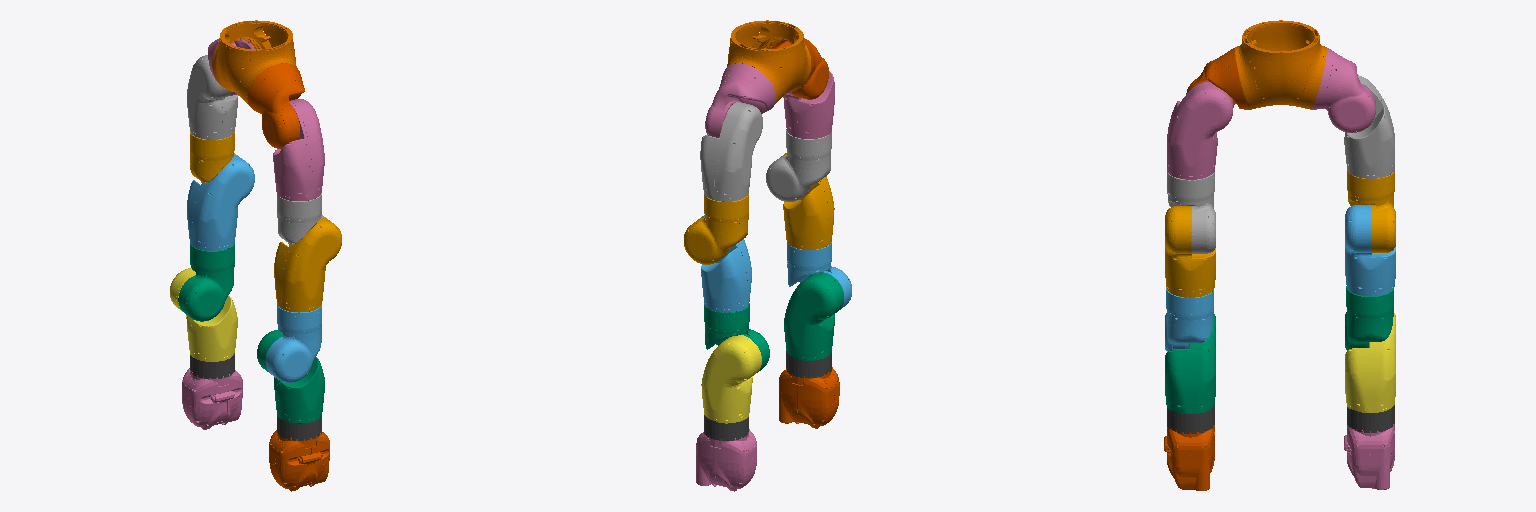
--- Facts derived from the render (not from the file) ---
3 views of the same robot in one strip: view 1: azimuth 30°, elevation 25°; view 2: azimuth 150°, elevation 25°; view 3: azimuth 270°, elevation 25° (orthographic).
Robot: r2 — 34 links, 33 joints (14 revolute, 19 fixed); root link r2/world_ref; default pose: every joint at zero.
Links seen in each view (by area): view 1: r2/left_knee, r2/right_knee, r2/pelvis, r2/right_hip_pitch, r2/right_hip_roll, r2/right_lower_leg, r2/left_lower_leg, r2/left_hip_pitch, r2/left_leg_foot, r2/right_leg_foot, r2/right_ankle_pitch, r2/left_ankle_pitch (+4 smaller); view 2: r2/left_hip_pitch, r2/pelvis, r2/right_ankle_pitch, r2/left_ankle_pitch, r2/right_upper_leg, r2/left_upper_leg, r2/left_leg_foot, r2/right_leg_foot, r2/right_knee, r2/left_knee, r2/left_hip_roll, r2/right_hip_pitch (+5 smaller); view 3: r2/pelvis, r2/right_hip_pitch, r2/right_ankle_pitch, r2/left_ankle_pitch, r2/right_knee, r2/left_knee, r2/left_hip_roll, r2/left_hip_pitch, r2/right_leg_foot, r2/left_leg_foot, r2/right_upper_leg, r2/left_upper_leg (+5 smaller).
Link boxes in pixels (left/top/right/bottom): r2/left_knee: left=187, top=155, right=254, bottom=250; r2/right_knee: left=274, top=216, right=341, bottom=312; r2/pelvis: left=212, top=20, right=296, bottom=104; r2/right_hip_pitch: left=273, top=99, right=324, bottom=200; r2/right_hip_roll: left=247, top=63, right=304, bottom=148; r2/right_lower_leg: left=266, top=305, right=321, bottom=382; r2/left_lower_leg: left=178, top=243, right=234, bottom=321; r2/left_hip_pitch: left=187, top=55, right=238, bottom=139; r2/left_leg_foot: left=182, top=368, right=242, bottom=429; r2/right_leg_foot: left=269, top=430, right=329, bottom=491; r2/right_ankle_pitch: left=257, top=330, right=324, bottom=423; r2/left_ankle_pitch: left=170, top=268, right=237, bottom=361; r2/left_hip_pitch: left=700, top=102, right=762, bottom=201; r2/pelvis: left=727, top=20, right=810, bottom=103; r2/right_ankle_pitch: left=784, top=272, right=843, bottom=360; r2/left_ankle_pitch: left=701, top=335, right=761, bottom=423; r2/right_upper_leg: left=766, top=129, right=831, bottom=201; r2/left_upper_leg: left=684, top=194, right=748, bottom=264; r2/left_leg_foot: left=696, top=429, right=756, bottom=491; r2/right_leg_foot: left=779, top=367, right=839, bottom=428; r2/right_knee: left=781, top=153, right=834, bottom=249; r2/left_knee: left=701, top=215, right=751, bottom=312; r2/left_hip_roll: left=705, top=63, right=776, bottom=137; r2/right_hip_pitch: left=783, top=71, right=834, bottom=138; r2/pelvis: left=1235, top=20, right=1326, bottom=109; r2/right_hip_pitch: left=1167, top=82, right=1232, bottom=179; r2/right_ankle_pitch: left=1165, top=314, right=1215, bottom=413; r2/left_ankle_pitch: left=1345, top=313, right=1395, bottom=412; r2/right_knee: left=1165, top=206, right=1215, bottom=297; r2/left_knee: left=1345, top=205, right=1395, bottom=296; r2/left_hip_roll: left=1311, top=48, right=1375, bottom=132; r2/left_hip_pitch: left=1344, top=75, right=1394, bottom=178; r2/right_leg_foot: left=1164, top=425, right=1214, bottom=490; r2/left_leg_foot: left=1344, top=424, right=1394, bottom=489; r2/right_upper_leg: left=1167, top=172, right=1215, bottom=253; r2/left_upper_leg: left=1347, top=171, right=1395, bottom=252.
Size in the robot's own frame: 0.2417 by 0.6398 by 1.35 metres.
Meshes: 5 distinct files referenced, 15 mesh visuals loaded (5 Collada DAE).

The robot description file, URDF, robot "r2":
<?xml version="1.0" ?>
<!-- =================================================================================== -->
<!-- |    This document was autogenerated by xacro from ./robots/r2c_sim_legs_control.urdf.xacro | -->
<!-- |    EDITING THIS FILE BY HAND IS NOT RECOMMENDED                                 | -->
<!-- =================================================================================== -->
<robot name="r2" xmlns:xacro="http://www.ros.org/wiki/xacro">
  <link name="r2/world_ref"/>
  <joint name="r2/fixed/world_ref/robot_world" type="fixed">
    <parent link="r2/world_ref"/>
    <child link="r2/robot_world"/>
    <origin rpy="0 0 0" xyz="0 0 0"/>
  </joint>
  <link name="r2/robot_world">
    <inertial>
      <mass value="0.01"/>
      <inertia ixx="0.0001" ixy="0.0" ixz="0.0" iyy="0.0001" iyz="0.0" izz="0.0001"/>
    </inertial>
  </link>
  <joint name="r2/fixed/robot_world/robot_base" type="fixed">
    <parent link="r2/robot_world"/>
    <child link="r2/robot_base"/>
    <origin rpy="0.0 3.14159 3.14159" xyz="0.0 0.0 0.0"/>
  </joint>
  <link name="r2/robot_base">
    <inertial>
      <mass value="0.01"/>
      <inertia ixx="0.0001" ixy="0.0" ixz="0.0" iyy="0.0001" iyz="0.0" izz="0.0001"/>
    </inertial>
  </link>
  <material name="white">
    <color rgba="1.0 1.0 1.0 1.0"/>
  </material>
  <material name="dirty_white">
    <color rgba="0.322 0.322 0.322 1.0"/>
  </material>
  <material name="gold">
    <color rgba=".878 .49 0.008 1"/>
  </material>
  <material name="steel">
    <color rgba=".7 .7 .7 1"/>
  </material>
  <material name="blue">
    <color rgba="0 0 0.8 1"/>
  </material>
  <link name="r2/pelvis">
    <inertial>
      <mass value="12.2831"/>
      <inertia ixx="0.10679" ixy="0.00009239" ixz="-0.00002105" iyy="0.05595" iyz="0.0" izz="0.1022"/>
      <origin rpy="0 0 0" xyz="0.00001909 0.0 -0.008524"/>
    </inertial>
    <visual>
      <geometry>
        <mesh filename="package://r2_description/meshes/r2c_legs/r2cl_ext_pelvis.dae"/>
      </geometry>
      <material name="gold"/>
      <origin rpy="0 0 0" xyz="0 0 0"/>
    </visual>
    <collision>
      <geometry>
        <mesh filename="package://r2_description/meshes/r2c_legs/r2cl_ext_pelvis.dae"/>
      </geometry>
      <origin rpy="0 0 0" xyz="0 0 0"/>
    </collision>
  </link>
  <joint name="r2/fixed/robot_base/pelvis" type="fixed">
    <parent link="r2/robot_base"/>
    <child link="r2/pelvis"/>
    <origin rpy="0 3.14159 0" xyz="0 0 0.098"/>
  </joint>
  <joint name="r2/fixed/pelvis/left_leg_base" type="fixed">
    <parent link="r2/pelvis"/>
    <child link="r2/left_leg_base"/>
    <origin rpy="0 0.000000 1.570796" xyz="0.0 0 0.0"/>
  </joint>
  <link name="r2/left_leg_base">
    <inertial>
      <mass value="0.01"/>
      <inertia ixx="0.0001" ixy="0.0" ixz="0.0" iyy="0.0001" iyz="0.0" izz="0.0001"/>
    </inertial>
  </link>
  <joint name="r2/fixed/left_leg_base/left_leg_j0_base" type="fixed">
    <parent link="r2/left_leg_base"/>
    <child link="r2/left_leg_j0_base"/>
    <origin rpy="0.0 1.8325957 3.14159" xyz="-0.1104900 0.0 -0.0297180"/>
  </joint>
  <link name="r2/left_leg_j0_base">
    <inertial>
      <mass value="0.01"/>
      <inertia ixx="0.0001" ixy="0.0" ixz="0.0" iyy="0.0001" iyz="0.0" izz="0.0001"/>
    </inertial>
  </link>
  <joint name="r2/left_leg/joint0" type="revolute">
    <parent link="r2/left_leg_j0_base"/>
    <child link="r2/left_hip_roll"/>
    <origin rpy="0.0 0 0" xyz="0 0 0"/>
    <axis xyz="0 0 1"/>
    <dynamics damping="10.0" friction="0.0"/>
    <limit effort="330.0" lower="-3.14159" upper="3.14159" velocity="1.0"/>
    <traits spring_k="2.5"/>
  </joint>
  <link name="r2/left_hip_roll">
    <inertial>
      <mass value="2.5410"/>
      <inertia ixx="0.006434" ixy="0.0007087" ixz="-0.001543" iyy="0.009325" iyz="0.0008694" izz="0.006904"/>
      <origin rpy="0.0 0.0 0.0" xyz="0.03372 -0.02428 0.07903"/>
    </inertial>
    <visual>
      <geometry>
        <mesh filename="package://r2_description/meshes/r2c_legs/r2cl_ext_bone3.dae"/>
      </geometry>
      <origin rpy="0 0 0" xyz="0.0 0.0 0.0"/>
    </visual>
    <collision>
      <geometry>
        <mesh filename="package://r2_description/meshes/r2c_legs/r2cl_ext_bone3.dae"/>
      </geometry>
      <origin rpy="0 0 0" xyz="0.0 0.0 0.0"/>
    </collision>
  </link>
  <joint name="r2/left_leg/joint1" type="revolute">
    <parent link="r2/left_hip_roll"/>
    <child link="r2/left_hip_pitch"/>
    <origin rpy="-1.570796  -0.2617994 0.0000000" xyz="0.050629765 +0.0022860 0.103498576"/>
    <axis xyz="0 0 1"/>
    <dynamics damping="5.0" friction="0.0"/>
    <limit effort="330.0" lower="-1.42244" upper="1.20427" velocity="1.0"/>
    <traits spring_k="2.5"/>
  </joint>
  <link name="r2/left_hip_pitch">
    <inertial>
      <mass value="4.6734"/>
      <inertia ixx="0.01002" ixy="0.007194" ixz="0.002041" iyy="0.03307" iyz="-0.0007281" izz="0.03728"/>
      <origin rpy="0 0 0" xyz="0.09450 -0.03354 0.008185"/>
    </inertial>
    <visual>
      <geometry>
        <mesh filename="package://r2_description/meshes/r2c_legs/r2cl_ext_bone1.dae"/>
      </geometry>
      <origin rpy="0 0 0" xyz="0 0 0"/>
    </visual>
    <collision>
      <geometry>
        <mesh filename="package://r2_description/meshes/r2c_legs/r2cl_ext_bone1.dae"/>
      </geometry>
      <origin rpy="0 0 0" xyz="0 0 0"/>
    </collision>
  </link>
  <joint name="r2/left_leg/joint2" type="revolute">
    <parent link="r2/left_hip_pitch"/>
    <child link="r2/left_upper_leg"/>
    <origin rpy=" 1.570796 0.0 1.570796" xyz="0.200 -0.050 0.004"/>
    <axis xyz="0 0 1"/>
    <dynamics damping="5.0" friction="0.0"/>
    <limit effort="330.0" lower="-3.14159" upper="3.14159" velocity="1.0"/>
    <traits spring_k="2.5"/>
  </joint>
  <link name="r2/left_upper_leg">
    <inertial>
      <mass value="3.7745"/>
      <inertia ixx="0.02163" ixy="-0.001453" ixz="0.003137" iyy="0.01832" iyz="0.004738" izz="0.009798"/>
      <origin rpy="0 0 0" xyz="-0.01485 -0.02188 0.09676"/>
    </inertial>
    <visual>
      <geometry>
        <mesh filename="package://r2_description/meshes/r2c_legs/r2cl_ext_bone2.dae"/>
      </geometry>
      <origin rpy="0 0 0" xyz="0 0 0"/>
    </visual>
    <collision>
      <geometry>
        <mesh filename="package://r2_description/meshes/r2c_legs/r2cl_ext_bone2.dae"/>
      </geometry>
      <origin rpy="0 0 0" xyz="0 0 0"/>
    </collision>
  </link>
  <joint name="r2/left_leg/joint3" type="revolute">
    <parent link="r2/left_upper_leg"/>
    <child link="r2/left_knee"/>
    <origin rpy="0.0 -1.570796 3.14159" xyz="-0.002 -0.050 0.157"/>
    <axis xyz="0 0 1"/>
    <dynamics damping="5.0" friction="0.0"/>
    <limit effort="330.0" lower="-0.10472" upper="2.68781" velocity="1.0"/>
    <traits spring_k="2.5"/>
  </joint>
  <link name="r2/left_knee">
    <inertial>
      <mass value="4.6734"/>
      <inertia ixx="0.01002" ixy="0.007194" ixz="0.002041" iyy="0.03307" iyz="-0.0007281" izz="0.03728"/>
      <origin rpy="0 0 0" xyz="0.09450 -0.03354 0.008185"/>
    </inertial>
    <visual>
      <geometry>
        <mesh filename="package://r2_description/meshes/r2c_legs/r2cl_ext_bone1.dae"/>
      </geometry>
      <origin rpy="0 0 0" xyz="0 0 0"/>
    </visual>
    <collision>
      <geometry>
        <mesh filename="package://r2_description/meshes/r2c_legs/r2cl_ext_bone1.dae"/>
      </geometry>
      <material name="gold"/>
      <origin rpy="0 0 0" xyz="0 0 0"/>
    </collision>
  </link>
  <joint name="r2/left_leg/joint4" type="revolute">
    <parent link="r2/left_knee"/>
    <child link="r2/left_lower_leg"/>
    <origin rpy="0 1.570796 0" xyz="0.200 -0.050 0.004"/>
    <axis xyz="0 0 1"/>
    <dynamics damping="5.0" friction="0.0"/>
    <limit effort="330.0" lower="-3.14159" upper="3.14159" velocity="1.0"/>
    <traits spring_k="2.5"/>
  </joint>
  <link name="r2/left_lower_leg">
    <inertial>
      <mass value="3.7745"/>
      <inertia ixx="0.02163" ixy="-0.001453" ixz="0.003137" iyy="0.01832" iyz="0.004738" izz="0.009798"/>
      <origin rpy="0 0 0" xyz="-0.01485 -0.02188 0.09676"/>
    </inertial>
    <visual>
      <geometry>
        <mesh filename="package://r2_description/meshes/r2c_legs/r2cl_ext_bone2.dae"/>
      </geometry>
      <origin rpy="0 0 0" xyz="0 0 0"/>
    </visual>
    <collision>
      <geometry>
        <mesh filename="package://r2_description/meshes/r2c_legs/r2cl_ext_bone2.dae"/>
      </geometry>
      <origin rpy="0 0 0" xyz="0 0 0"/>
    </collision>
  </link>
  <joint name="r2/left_leg/joint5" type="revolute">
    <parent link="r2/left_lower_leg"/>
    <child link="r2/left_ankle_pitch"/>
    <origin rpy="0.0 -1.570796 3.14159" xyz="-0.002 -0.050 0.157"/>
    <axis xyz="0 0 1"/>
    <dynamics damping="5.0" friction="0.0"/>
    <limit effort="330.0" lower="-0.10472" upper="2.68781" velocity="1.0"/>
    <traits spring_k="2.5"/>
  </joint>
  <link name="r2/left_ankle_pitch">
    <inertial>
      <mass value="4.6734"/>
      <inertia ixx="0.01002" ixy="0.007194" ixz="0.002041" iyy="0.03307" iyz="-0.0007281" izz="0.03728"/>
      <origin rpy="0 0 0" xyz="0.09450 -0.03354 0.008185"/>
    </inertial>
    <visual>
      <geometry>
        <mesh filename="package://r2_description/meshes/r2c_legs/r2cl_ext_bone1.dae"/>
      </geometry>
      <origin rpy="0 0 0" xyz="0 0 0"/>
    </visual>
    <collision>
      <geometry>
        <mesh filename="package://r2_description/meshes/r2c_legs/r2cl_ext_bone1.dae"/>
      </geometry>
      <origin rpy="0 0 0" xyz="0 0 0"/>
    </collision>
  </link>
  <joint name="r2/left_leg/joint6" type="revolute">
    <parent link="r2/left_ankle_pitch"/>
    <child link="r2/left_ankle_roll"/>
    <origin rpy="3.14159 -1.570796 0" xyz="0.199643 -0.0508 0.00325"/>
    <axis xyz="0 0 1"/>
    <dynamics damping="5.0" friction="0.0"/>
    <limit effort="330.0" lower="-3.14159" upper="3.14159" velocity="1.0"/>
    <traits spring_k="2.5"/>
  </joint>
  <link name="r2/left_ankle_roll">
    <inertial>
      <mass value="1.4461"/>
      <inertia ixx="0.001780" ixy="0.00001801" ixz="0.0000002218" iyy="0.001767" iyz="0.0000006717" izz="0.002949"/>
      <origin rpy="0 0 0" xyz="-0.00004402 0.0001052 0.02940"/>
    </inertial>
    <visual>
      <geometry>
        <cylinder length=".06" radius=".066"/>
      </geometry>
      <material name="dirty_white"/>
      <origin rpy="0 0 0" xyz="0 0 0.025"/>
    </visual>
    <collision>
      <geometry>
        <cylinder length=".06" radius=".066"/>
      </geometry>
      <origin rpy="0 0 0" xyz="0 0 0.025"/>
    </collision>
  </link>
  <joint name="r2/fixed/left_ankle_roll/left_leg_ati" type="fixed">
    <parent link="r2/left_ankle_roll"/>
    <child link="r2/left_leg/ati"/>
    <origin rpy="3.1416 0.0 -1.5708" xyz="0.0 0.0 0.070182"/>
  </joint>
  <link name="r2/left_leg/ati">
    <inertial>
      <mass value="0.01"/>
      <inertia ixx="0.0001" ixy="0.0" ixz="0.0" iyy="0.0001" iyz="0.0" izz="0.0001"/>
    </inertial>
  </link>
  <joint name="r2/fixed/left_leg_ati/left_leg_foot" type="fixed">
    <parent link="r2/left_leg/ati"/>
    <child link="r2/left_leg_foot"/>
    <origin rpy="3.1416 0.0 -1.5708" xyz="0.0 0.0 0.0206502"/>
  </joint>
  <link name="r2/left_leg_foot">
    <inertial>
      <mass value="4.63812"/>
      <inertia ixx="0.01951" ixy="-0.00030332" ixz="-0.00011945" iyy="0.017896" iyz="-0.000689634" izz="0.010101"/>
      <origin rpy="0 0 0" xyz="-0.0015 -0.00021835 0.08493"/>
    </inertial>
    <visual>
      <geometry>
        <mesh filename="package://r2_description/meshes/r2c_legs/foot_body.dae"/>
      </geometry>
      <origin rpy="0 0 -1.5708" xyz="0 0 0"/>
    </visual>
    <collision>
      <geometry>
        <mesh filename="package://r2_description/meshes/r2c_legs/foot_body.dae"/>
      </geometry>
      <origin rpy="0 0 -1.5708" xyz="0 0 0"/>
    </collision>
  </link>
  <joint name="r2/fixed/left_leg_foot/left_hr_tip" type="fixed">
    <parent link="r2/left_leg_foot"/>
    <child link="r2/left_leg/gripper/tip"/>
    <origin rpy="0.0 0 0" xyz="0 0 0.19451"/>
  </joint>
  <link name="r2/left_leg/gripper/tip">
    <inertial>
      <mass value="0.01"/>
      <inertia ixx="0.0001" ixy="0.0" ixz="0.0" iyy="0.0001" iyz="0.0" izz="0.0001"/>
    </inertial>
  </link>
  <joint name="r2/fixed/left_leg_foot/left_st_tip" type="fixed">
    <parent link="r2/left_leg_foot"/>
    <child link="r2/left_leg/gripper/st_tip"/>
    <origin rpy="0.0 0 0" xyz="0 0 0.21991"/>
  </joint>
  <link name="r2/left_leg/gripper/st_tip">
    <inertial>
      <mass value="0.01"/>
      <inertia ixx="0.0001" ixy="0.0" ixz="0.0" iyy="0.0001" iyz="0.0" izz="0.0001"/>
    </inertial>
  </link>
  <joint name="r2/fixed/left_leg_foot/left_leg_nano_physical" type="fixed">
    <parent link="r2/left_leg_foot"/>
    <child link="r2/left_leg/nano_physical"/>
    <origin rpy="0 0 0" xyz="-0.025 .07 0.13"/>
  </joint>
  <link name="r2/left_leg/nano_physical">
    <inertial>
      <mass value="0.01"/>
      <inertia ixx="0.0001" ixy="0.0" ixz="0.0" iyy="0.0001" iyz="0.0" izz="0.0001"/>
    </inertial>
  </link>
  <joint name="r2/fixed/left_leg_foot/left_leg_flea_physical" type="fixed">
    <parent link="r2/left_leg_foot"/>
    <child link="r2/left_leg/flea_physical"/>
    <origin rpy="0.0 0 0" xyz="0.025 .07 0.13"/>
  </joint>
  <link name="r2/left_leg/flea_physical">
    <inertial>
      <mass value="0.01"/>
      <inertia ixx="0.0001" ixy="0.0" ixz="0.0" iyy="0.0001" iyz="0.0" izz="0.0001"/>
    </inertial>
  </link>
  <joint name="r2/fixed/pelvis/right_leg_base" type="fixed">
    <parent link="r2/pelvis"/>
    <child link="r2/right_leg_base"/>
    <origin rpy="0 0.000000 1.570796" xyz="0.0 0 0.0"/>
  </joint>
  <link name="r2/right_leg_base">
    <inertial>
      <mass value="0.01"/>
      <inertia ixx="0.0001" ixy="0.0" ixz="0.0" iyy="0.0001" iyz="0.0" izz="0.0001"/>
    </inertial>
  </link>
  <joint name="r2/fixed/right_leg_base/right_leg_j0_base" type="fixed">
    <parent link="r2/right_leg_base"/>
    <child link="r2/right_leg_j0_base"/>
    <origin rpy="0.0 1.8325957 0.0" xyz="0.1104900 0.0 -0.0297180"/>
  </joint>
  <link name="r2/right_leg_j0_base">
    <inertial>
      <mass value="0.01"/>
      <inertia ixx="0.0001" ixy="0.0" ixz="0.0" iyy="0.0001" iyz="0.0" izz="0.0001"/>
    </inertial>
  </link>
  <joint name="r2/right_leg/joint0" type="revolute">
    <parent link="r2/right_leg_j0_base"/>
    <child link="r2/right_hip_roll"/>
    <origin rpy="0.0 0.0 0.0" xyz="0 0 0"/>
    <axis xyz="0 0 1"/>
    <dynamics damping="10.0" friction="0.0"/>
    <limit effort="330.0" lower="-3.14159" upper="3.14159" velocity="1.0"/>
    <traits spring_k="2.5"/>
  </joint>
  <link name="r2/right_hip_roll">
    <inertial>
      <mass value="2.5410"/>
      <inertia ixx="0.006434" ixy="0.0007087" ixz="-0.001543" iyy="0.009325" iyz="0.0008694" izz="0.006904"/>
      <origin rpy="0.0 0.0 0.0" xyz="0.03372 -0.02428 0.07903"/>
    </inertial>
    <visual>
      <geometry>
        <mesh filename="package://r2_description/meshes/r2c_legs/r2cl_ext_bone3.dae"/>
      </geometry>
      <origin rpy="0 0 0" xyz="0.0 0.0 0.0"/>
    </visual>
    <collision>
      <geometry>
        <mesh filename="package://r2_description/meshes/r2c_legs/r2cl_ext_bone3.dae"/>
      </geometry>
      <origin rpy="0 0 0" xyz="0.0 0.0 0.0"/>
    </collision>
  </link>
  <joint name="r2/right_leg/joint1" type="revolute">
    <parent link="r2/right_hip_roll"/>
    <child link="r2/right_hip_pitch"/>
    <origin rpy="-1.570796  -0.2617994 0.0000000" xyz="0.050629765 -0.0022860 0.103498576"/>
    <axis xyz="0 0 1"/>
    <dynamics damping="5.0" friction="0.0"/>
    <limit effort="330.0" lower="-1.42244" upper="1.20427" velocity="1.0"/>
    <traits spring_k="2.5"/>
  </joint>
  <link name="r2/right_hip_pitch">
    <inertial>
      <mass value="4.6734"/>
      <inertia ixx="0.01002" ixy="0.007194" ixz="0.002041" iyy="0.03307" iyz="-0.0007281" izz="0.03728"/>
      <origin rpy="0 0 0" xyz="0.09450 -0.03354 0.008185"/>
    </inertial>
    <visual>
      <geometry>
        <mesh filename="package://r2_description/meshes/r2c_legs/r2cl_ext_bone1.dae"/>
      </geometry>
      <origin rpy="0 0 0" xyz="0 0 0"/>
    </visual>
    <collision>
      <geometry>
        <mesh filename="package://r2_description/meshes/r2c_legs/r2cl_ext_bone1.dae"/>
      </geometry>
      <origin rpy="0 0 0" xyz="0 0 0"/>
    </collision>
  </link>
  <joint name="r2/right_leg/joint2" type="revolute">
    <parent link="r2/right_hip_pitch"/>
    <child link="r2/right_upper_leg"/>
    <origin rpy="-1.570796 0.0 -1.570796" xyz="0.200 -0.050 0.004"/>
    <axis xyz="0 0 1"/>
    <dynamics damping="5.0" friction="0.0"/>
    <limit effort="330.0" lower="-3.14159" upper="3.14159" velocity="1.0"/>
    <traits spring_k="2.5"/>
  </joint>
  <link name="r2/right_upper_leg">
    <inertial>
      <mass value="3.7745"/>
      <inertia ixx="0.02163" ixy="-0.001453" ixz="0.003137" iyy="0.01832" iyz="0.004738" izz="0.009798"/>
      <origin rpy="0 0 0" xyz="-0.01485 -0.02188 0.09676"/>
    </inertial>
    <visual>
      <geometry>
        <mesh filename="package://r2_description/meshes/r2c_legs/r2cl_ext_bone2.dae"/>
      </geometry>
      <origin rpy="0 0 0" xyz="0 0 0"/>
    </visual>
    <collision>
      <geometry>
        <mesh filename="package://r2_description/meshes/r2c_legs/r2cl_ext_bone2.dae"/>
      </geometry>
      <origin rpy="0 0 0" xyz="0 0 0.0"/>
    </collision>
  </link>
  <joint name="r2/right_leg/joint3" type="revolute">
    <parent link="r2/right_upper_leg"/>
    <child link="r2/right_knee"/>
    <origin rpy="0.0 -1.570796 3.14159" xyz="-0.00200 -0.050  0.157"/>
    <axis xyz="0 0 1"/>
    <dynamics damping="5.0" friction="0.0"/>
    <limit effort="330.0" lower="-0.10472" upper="2.68781" velocity="1.0"/>
    <traits spring_k="2.5"/>
  </joint>
  <link name="r2/right_knee">
    <inertial>
      <mass value="4.6734"/>
      <inertia ixx="0.01002" ixy="0.007194" ixz="0.002041" iyy="0.03307" iyz="-0.0007281" izz="0.03728"/>
      <origin rpy="0 0 0" xyz="0.09450 -0.03354 0.008185"/>
    </inertial>
    <visual>
      <geometry>
        <mesh filename="package://r2_description/meshes/r2c_legs/r2cl_ext_bone1.dae"/>
      </geometry>
      <origin rpy="0 0 0" xyz="0 0 0"/>
    </visual>
    <collision>
      <geometry>
        <mesh filename="package://r2_description/meshes/r2c_legs/r2cl_ext_bone1.dae"/>
      </geometry>
      <material name="gold"/>
      <origin rpy="0 0 0" xyz="0 0 0"/>
    </collision>
  </link>
  <joint name="r2/right_leg/joint4" type="revolute">
    <parent link="r2/right_knee"/>
    <child link="r2/right_lower_leg"/>
    <origin rpy="0 1.570796 0" xyz="0.200 -0.050 0.004"/>
    <axis xyz="0 0 1"/>
    <dynamics damping="5.0" friction="0.0"/>
    <limit effort="330.0" lower="-3.14159" upper="3.14159" velocity="1.0"/>
    <traits spring_k="2.5"/>
  </joint>
  <link name="r2/right_lower_leg">
    <inertial>
      <mass value="3.7745"/>
      <inertia ixx="0.02163" ixy="-0.001453" ixz="0.003137" iyy="0.01832" iyz="0.004738" izz="0.009798"/>
      <origin rpy="0 0 0" xyz="-0.01485 -0.02188 0.09676"/>
    </inertial>
    <visual>
      <geometry>
        <mesh filename="package://r2_description/meshes/r2c_legs/r2cl_ext_bone2.dae"/>
      </geometry>
      <origin rpy="0 0 0" xyz="0 0 0"/>
    </visual>
    <collision>
      <geometry>
        <mesh filename="package://r2_description/meshes/r2c_legs/r2cl_ext_bone2.dae"/>
      </geometry>
      <origin rpy="0 0 0" xyz="0 0 0.0"/>
    </collision>
  </link>
  <joint name="r2/right_leg/joint5" type="revolute">
    <parent link="r2/right_lower_leg"/>
    <child link="r2/right_ankle_pitch"/>
    <origin rpy="0.0 -1.570796 3.14159" xyz="-0.002 -0.050 0.157"/>
    <axis xyz="0 0 1"/>
    <dynamics damping="5.0" friction="0.0"/>
    <limit effort="330.0" lower="-0.10472" upper="2.68781" velocity="1.0"/>
    <traits spring_k="2.5"/>
  </joint>
  <link name="r2/right_ankle_pitch">
    <inertial>
      <mass value="4.6734"/>
      <inertia ixx="0.01002" ixy="0.007194" ixz="0.002041" iyy="0.03307" iyz="-0.0007281" izz="0.03728"/>
      <origin rpy="0 0 0" xyz="0.09450 -0.03354 0.008185"/>
    </inertial>
    <visual>
      <geometry>
        <mesh filename="package://r2_description/meshes/r2c_legs/r2cl_ext_bone1.dae"/>
      </geometry>
      <origin rpy="0 0 0" xyz="0 0 0"/>
    </visual>
    <collision>
      <geometry>
        <mesh filename="package://r2_description/meshes/r2c_legs/r2cl_ext_bone1.dae"/>
      </geometry>
      <origin rpy="0 0 0" xyz="0 0 0"/>
    </collision>
  </link>
  <joint name="r2/right_leg/joint6" type="revolute">
    <parent link="r2/right_ankle_pitch"/>
    <child link="r2/right_ankle_roll"/>
    <origin rpy="3.14159 -1.570796 0 " xyz="0.199643 -0.0508 0.00325"/>
    <axis xyz="0 0 1"/>
    <dynamics damping="5.0" friction="0.0"/>
    <limit effort="330.0" lower="-3.14159" upper="3.14159" velocity="1.0"/>
    <traits spring_k="2.5"/>
  </joint>
  <link name="r2/right_ankle_roll">
    <inertial>
      <mass value="1.4461"/>
      <inertia ixx="0.001780" ixy="0.00001801" ixz="0.0000002218" iyy="0.001767" iyz="0.0000006717" izz="0.002949"/>
      <origin rpy="0 0 0" xyz="-0.00004402 0.0001052 0.02940"/>
    </inertial>
    <visual>
      <geometry>
        <cylinder length=".06" radius=".066"/>
      </geometry>
      <material name="dirty_white"/>
      <origin rpy="0 0 0" xyz="0 0 0.025"/>
    </visual>
    <collision>
      <geometry>
        <cylinder length=".06" radius=".066"/>
      </geometry>
      <origin rpy="0 0 0" xyz="0 0 0.025"/>
    </collision>
  </link>
  <joint name="r2/fixed/right_ankle_roll/right_leg_ati" type="fixed">
    <parent link="r2/right_ankle_roll"/>
    <child link="r2/right_leg/ati"/>
    <origin rpy="3.1416 0.0 -1.5708" xyz="0.0 0.0 0.070182"/>
  </joint>
  <link name="r2/right_leg/ati">
    <inertial>
      <mass value="0.01"/>
      <inertia ixx="0.0001" ixy="0.0" ixz="0.0" iyy="0.0001" iyz="0.0" izz="0.0001"/>
    </inertial>
  </link>
  <joint name="r2/fixed/right_leg_ati/right_leg_foot" type="fixed">
    <parent link="r2/right_leg/ati"/>
    <child link="r2/right_leg_foot"/>
    <origin rpy="3.1416 0.0 -1.5708" xyz="0.0 0.0 0.0206502"/>
  </joint>
  <link name="r2/right_leg_foot">
    <inertial>
      <mass value="4.63812"/>
      <inertia ixx="0.01951" ixy="-0.00030332" ixz="-0.00011945" iyy="0.017896" iyz="-0.000689634" izz="0.010101"/>
      <origin rpy="0 0 0" xyz="-0.0015 -0.00021835 0.08493"/>
    </inertial>
    <visual>
      <geometry>
        <mesh filename="package://r2_description/meshes/r2c_legs/foot_body.dae"/>
      </geometry>
      <origin rpy="0 0 -1.5708" xyz="0 0 0"/>
    </visual>
    <collision>
      <geometry>
        <mesh filename="package://r2_description/meshes/r2c_legs/foot_body.dae"/>
      </geometry>
      <origin rpy="0 0 -1.5708" xyz="0 0 0"/>
    </collision>
  </link>
  <joint name="r2/fixed/right_leg_foot/right_hr_tip" type="fixed">
    <parent link="r2/right_leg_foot"/>
    <child link="r2/right_leg/gripper/tip"/>
    <origin rpy="0.0 0 0" xyz="0 0 0.19451"/>
  </joint>
  <link name="r2/right_leg/gripper/tip">
    <inertial>
      <mass value="0.01"/>
      <inertia ixx="0.0001" ixy="0.0" ixz="0.0" iyy="0.0001" iyz="0.0" izz="0.0001"/>
    </inertial>
  </link>
  <joint name="r2/fixed/right_leg_foot/right_st_tip" type="fixed">
    <parent link="r2/right_leg_foot"/>
    <child link="r2/right_leg/gripper/st_tip"/>
    <origin rpy="0.0 0 0" xyz="0 0 0.21991"/>
  </joint>
  <link name="r2/right_leg/gripper/st_tip">
    <inertial>
      <mass value="0.01"/>
      <inertia ixx="0.0001" ixy="0.0" ixz="0.0" iyy="0.0001" iyz="0.0" izz="0.0001"/>
    </inertial>
  </link>
  <joint name="r2/fixed/right_leg_foot/right_leg_nano_physical" type="fixed">
    <parent link="r2/right_leg_foot"/>
    <child link="r2/right_leg/nano_physical"/>
    <origin rpy="0 0 0" xyz="-0.025 .07 0.13"/>
  </joint>
  <link name="r2/right_leg/nano_physical">
    <inertial>
      <mass value="0.01"/>
      <inertia ixx="0.0001" ixy="0.0" ixz="0.0" iyy="0.0001" iyz="0.0" izz="0.0001"/>
    </inertial>
  </link>
  <joint name="r2/fixed/right_leg_foot/right_leg_flea_physical" type="fixed">
    <parent link="r2/right_leg_foot"/>
    <child link="r2/right_leg/flea_physical"/>
    <origin rpy="0.0 0 0" xyz="0.025 .07 0.13"/>
  </joint>
  <link name="r2/right_leg/flea_physical">
    <inertial>
      <mass value="0.01"/>
      <inertia ixx="0.0001" ixy="0.0" ixz="0.0" iyy="0.0001" iyz="0.0" izz="0.0001"/>
    </inertial>
  </link>
</robot>
